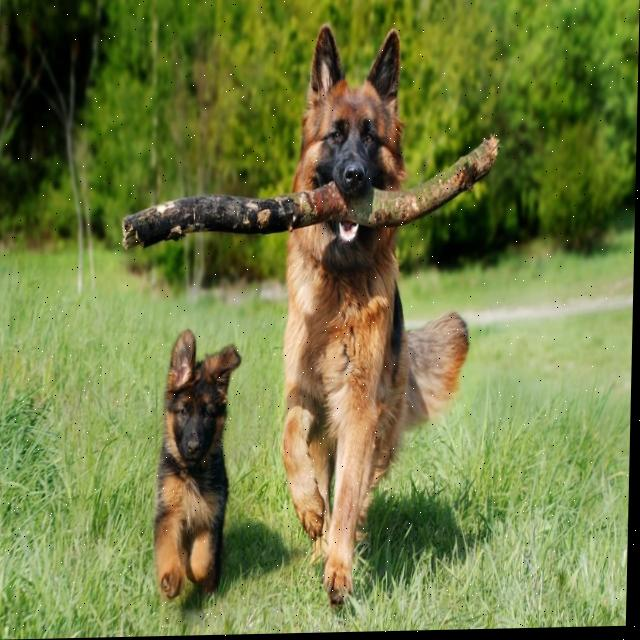GERMAN_SHEPHERD: (271, 32, 476, 608), (143, 323, 255, 610)
